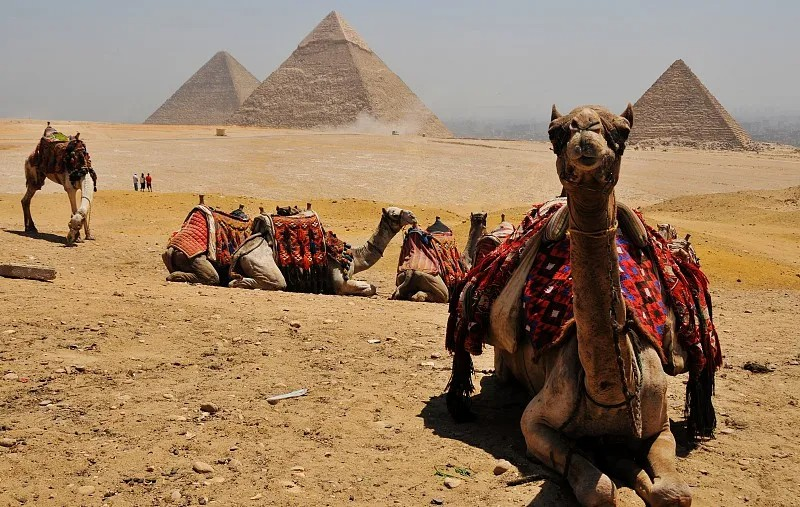Pyramid: (225, 11, 458, 137), (630, 58, 754, 151), (143, 51, 262, 126)
